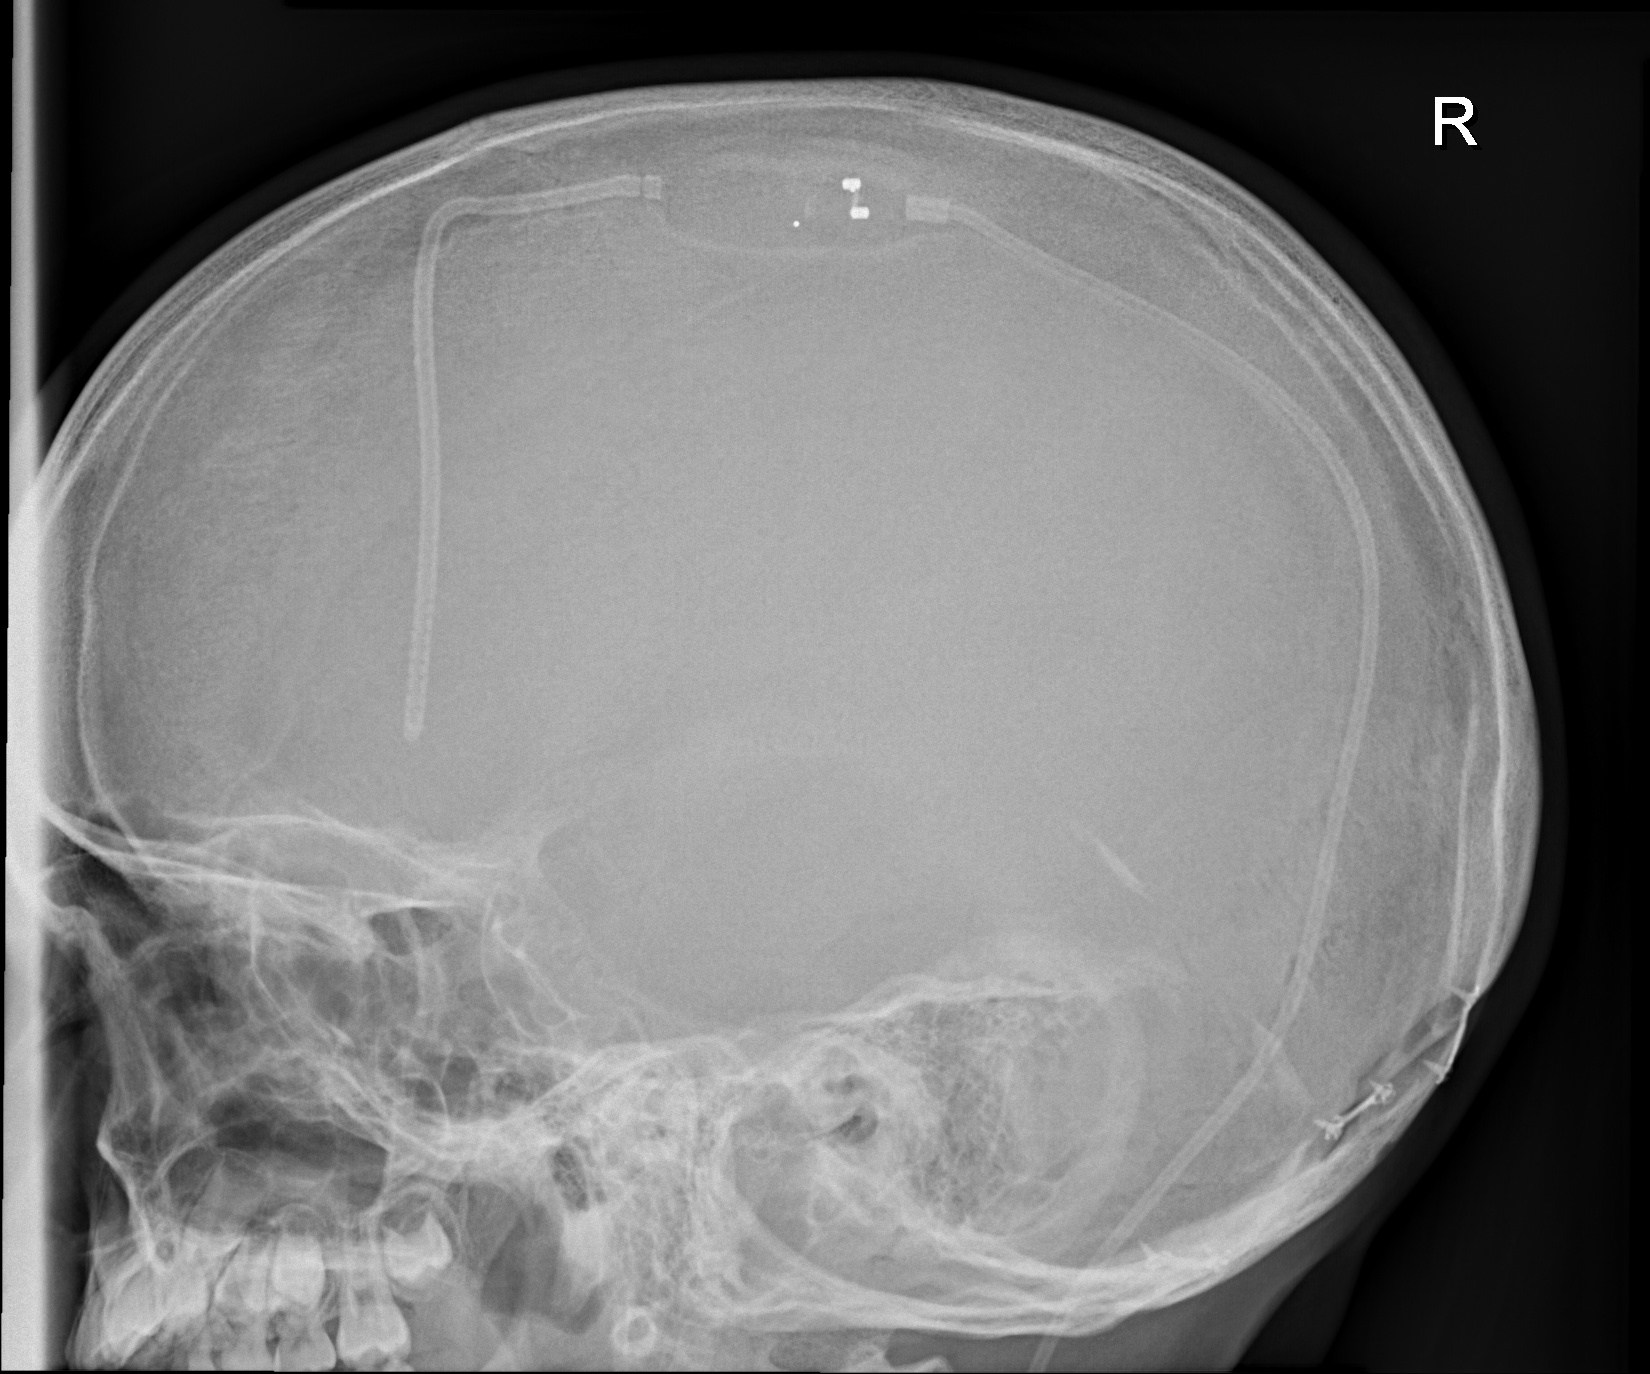Codman Certas: (780, 156, 921, 249)
